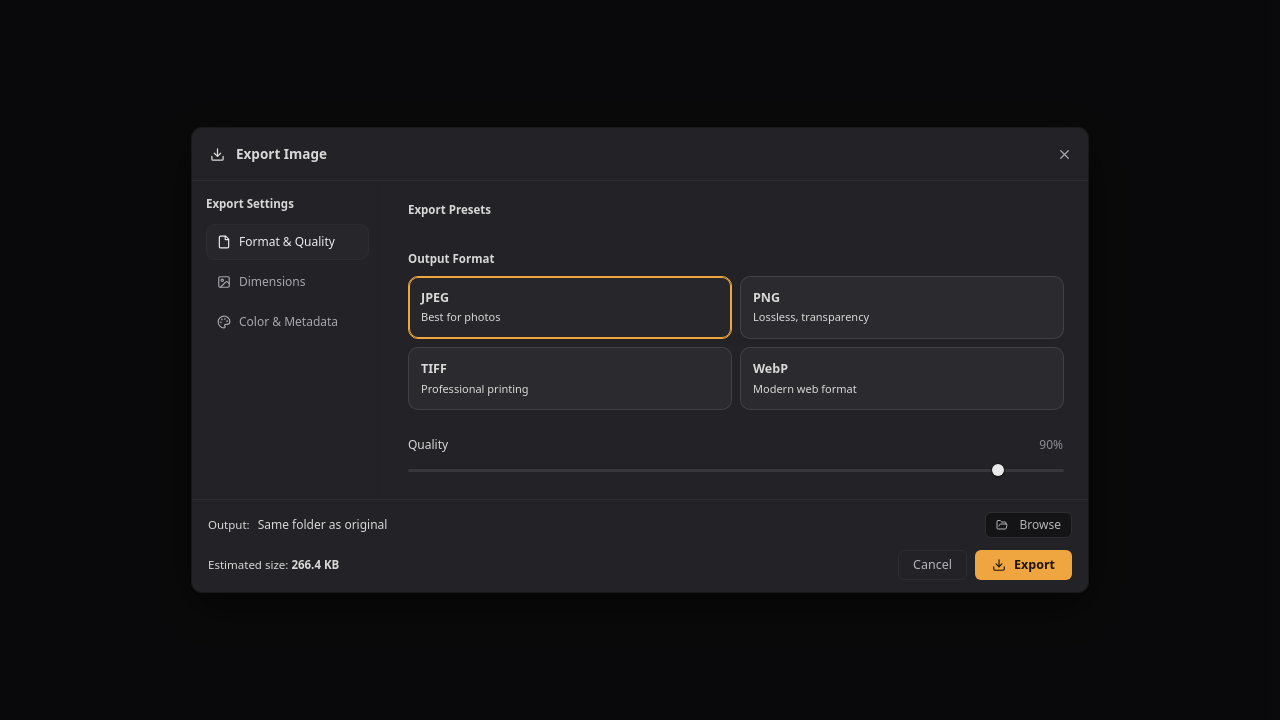
Scenario: ExportDialog — Resize toggle gating during the developing window › leaves the Resize toggle enabled once full quality has settled (developing false)
Step 1. Click the button "Dimensions" → click(288, 282), box [206,264,369,300]
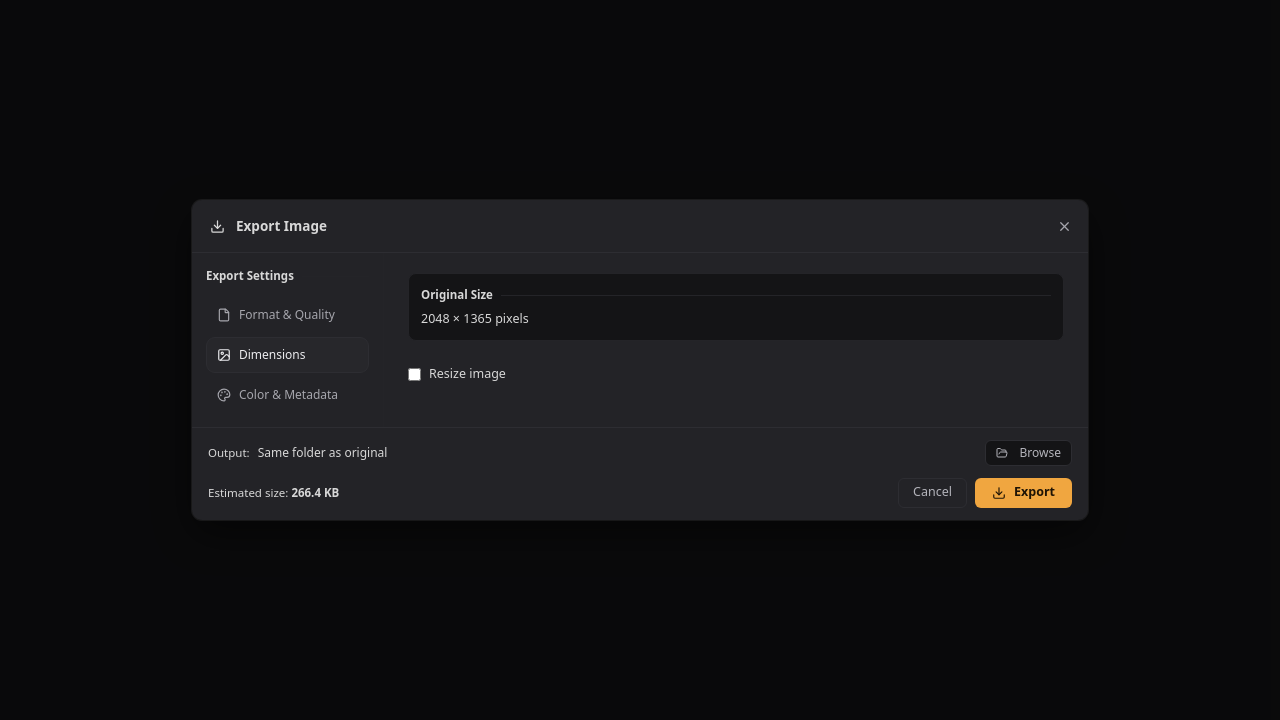
Expected: the checkbox labelled "Resize image" is enabled, [408,368,421,381]
